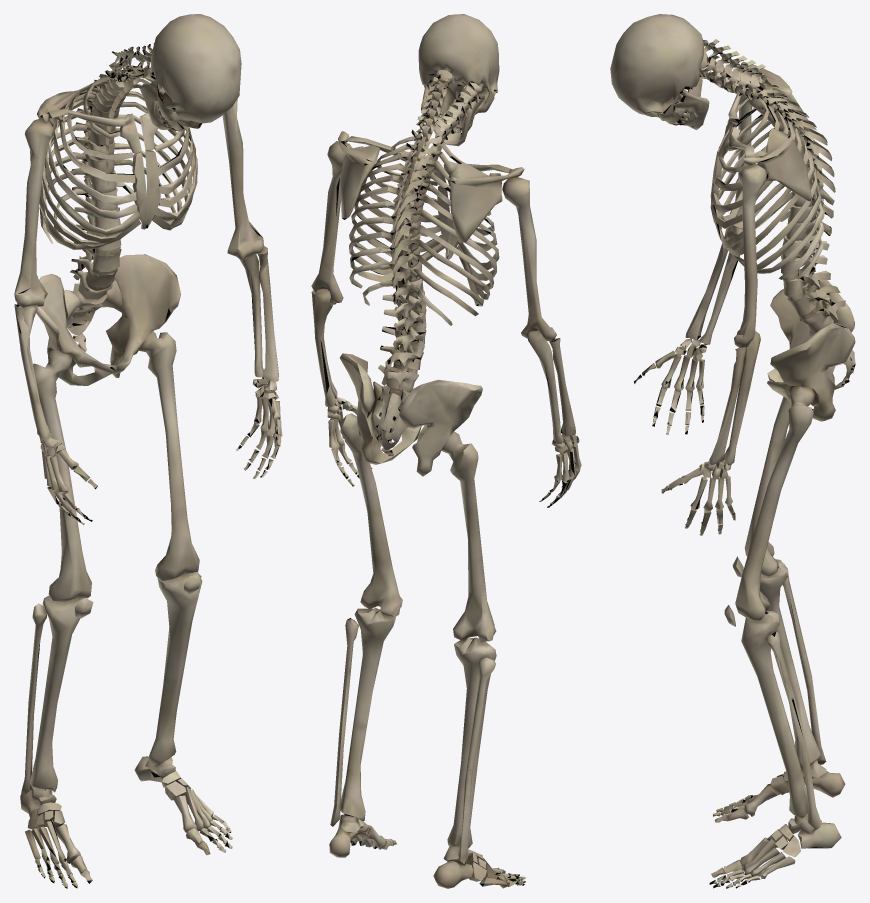
File: skeleton_hang.glb
The picture shows the model from 3 angles, left to right: view 1: azimuth 30°, elevation 25°; view 2: azimuth 150°, elevation 25°; view 3: azimuth 270°, elevation 25°; orthographic projection. The views are drawn at different scales.
Parts seen in each view (by area): view 1: skeleton_hang; view 2: skeleton_hang; view 3: skeleton_hang.
Boxes of the visible parts, bbox=[...] form: skeleton_hang: bbox=[14, 14, 282, 888]; skeleton_hang: bbox=[311, 14, 581, 888]; skeleton_hang: bbox=[610, 14, 855, 888].
Size of the model in its own units: 0.5201 by 1.68 by 0.4421.
1 material, 1 textured.
